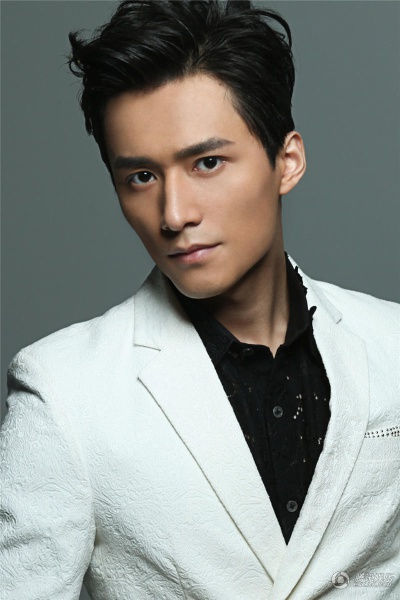male: (62, 3, 303, 315)
